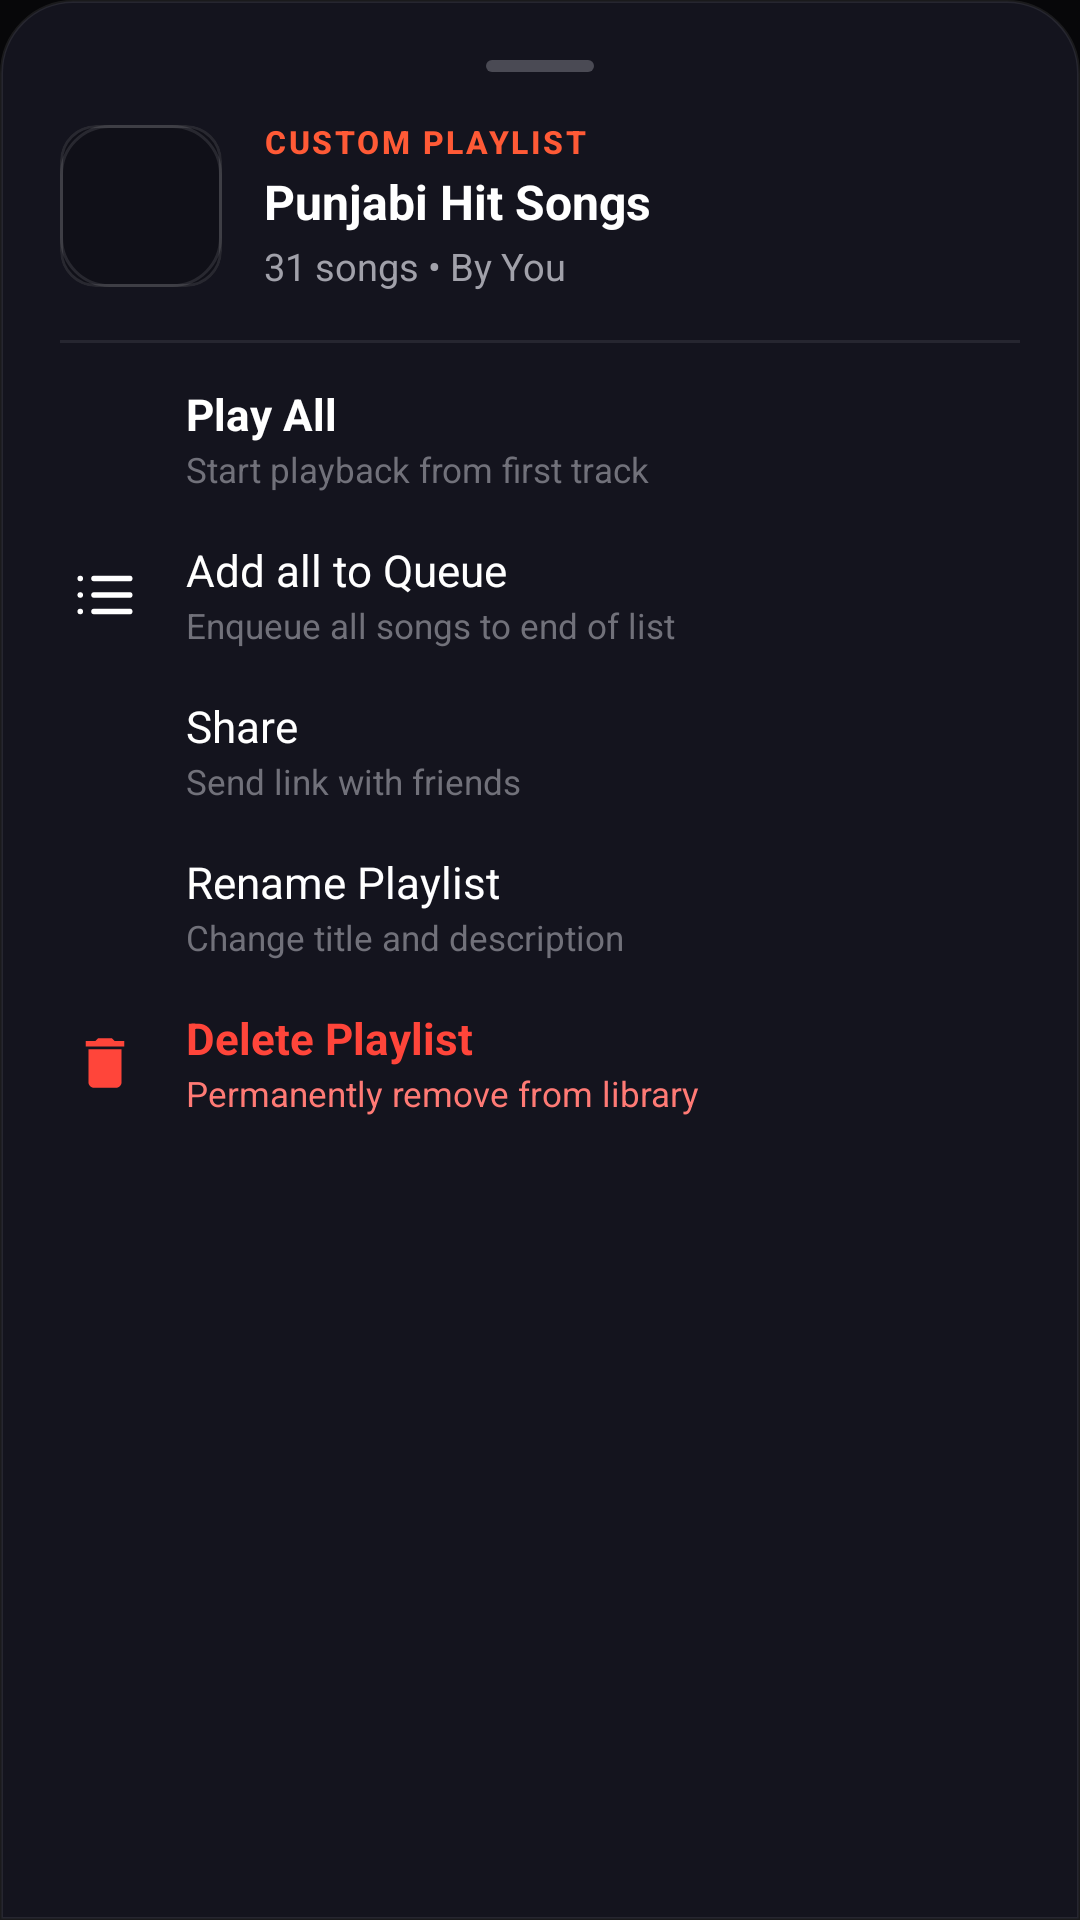

Screen size 1080 x 1920. Icon name, then its center in pixels as (x,y):
trash: (105,1063)
